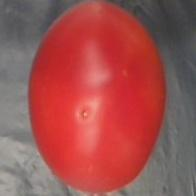unripe: (24, 0, 171, 196)
